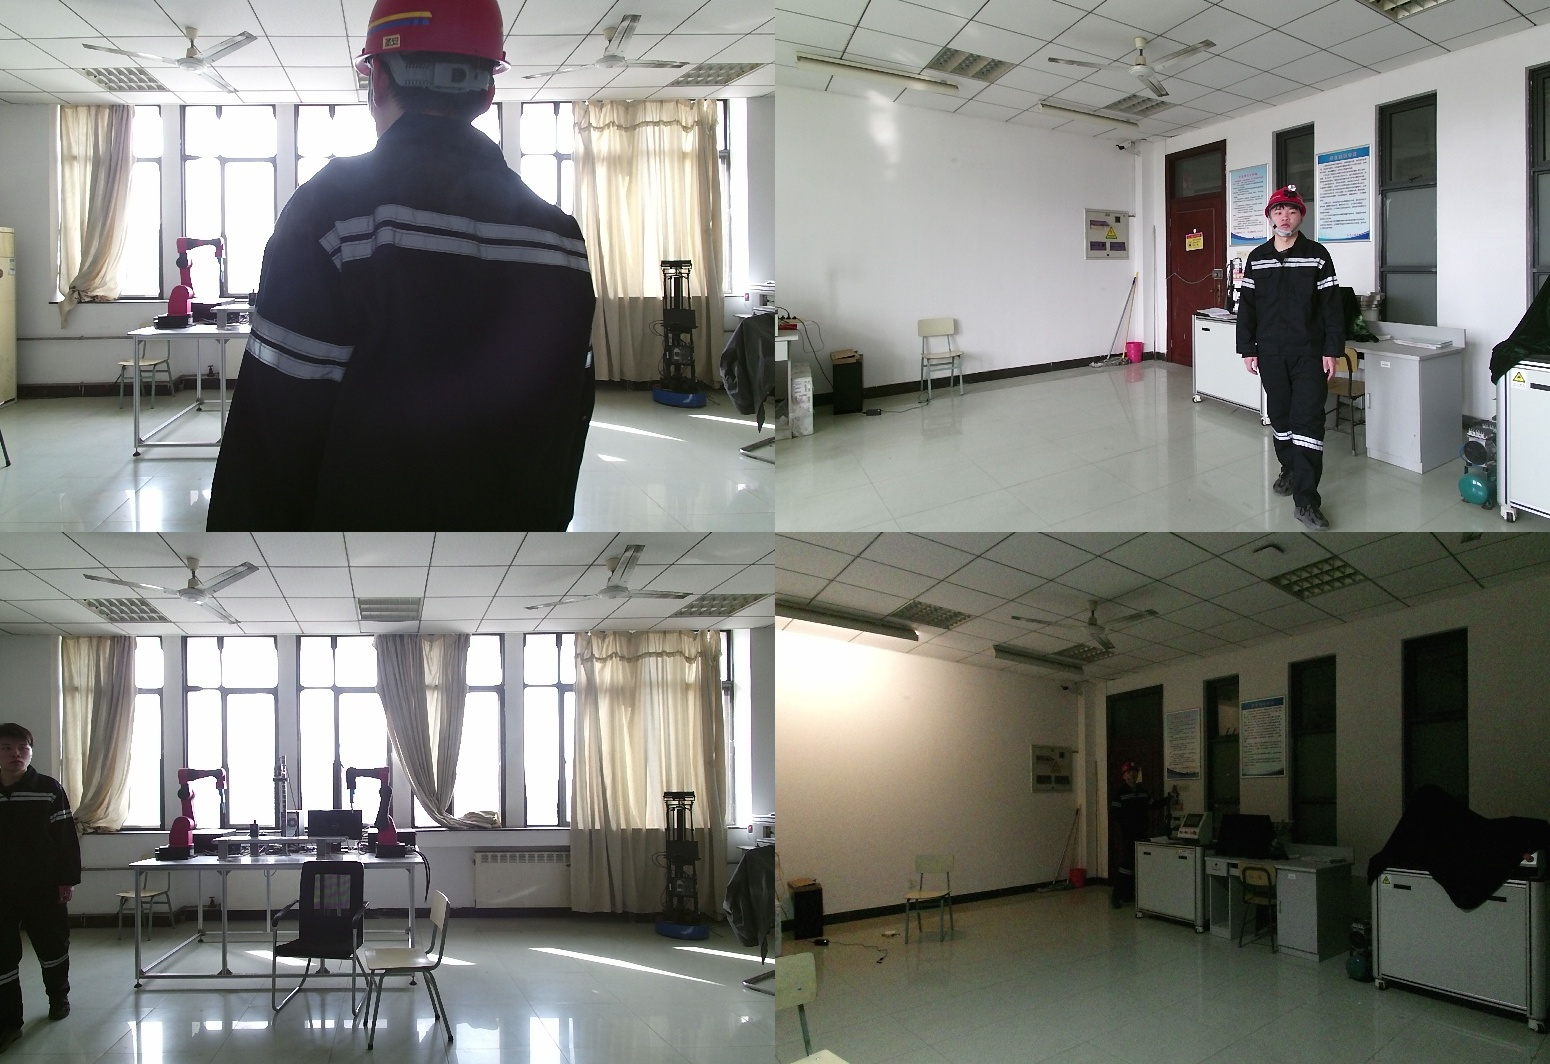person: (209, 1, 594, 532), (1243, 188, 1356, 528), (3, 723, 88, 1048), (1106, 761, 1169, 913)
